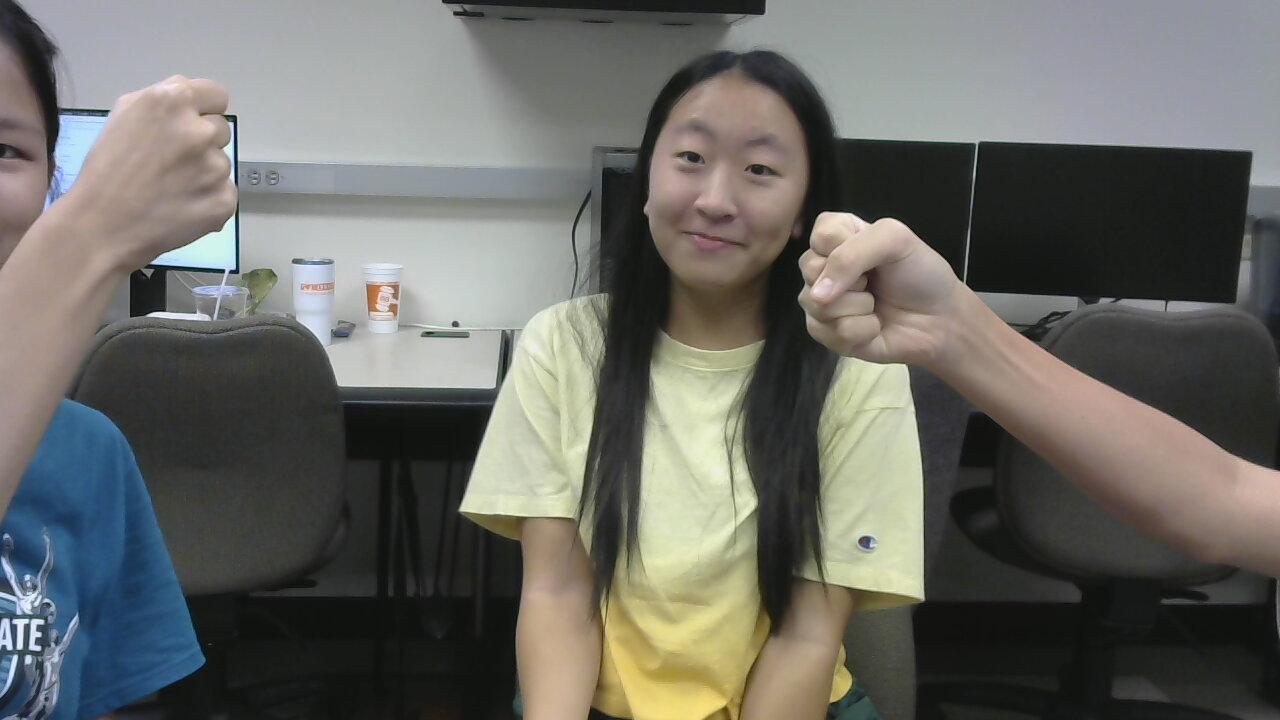fist: (76, 73, 249, 258), (789, 212, 970, 370)
